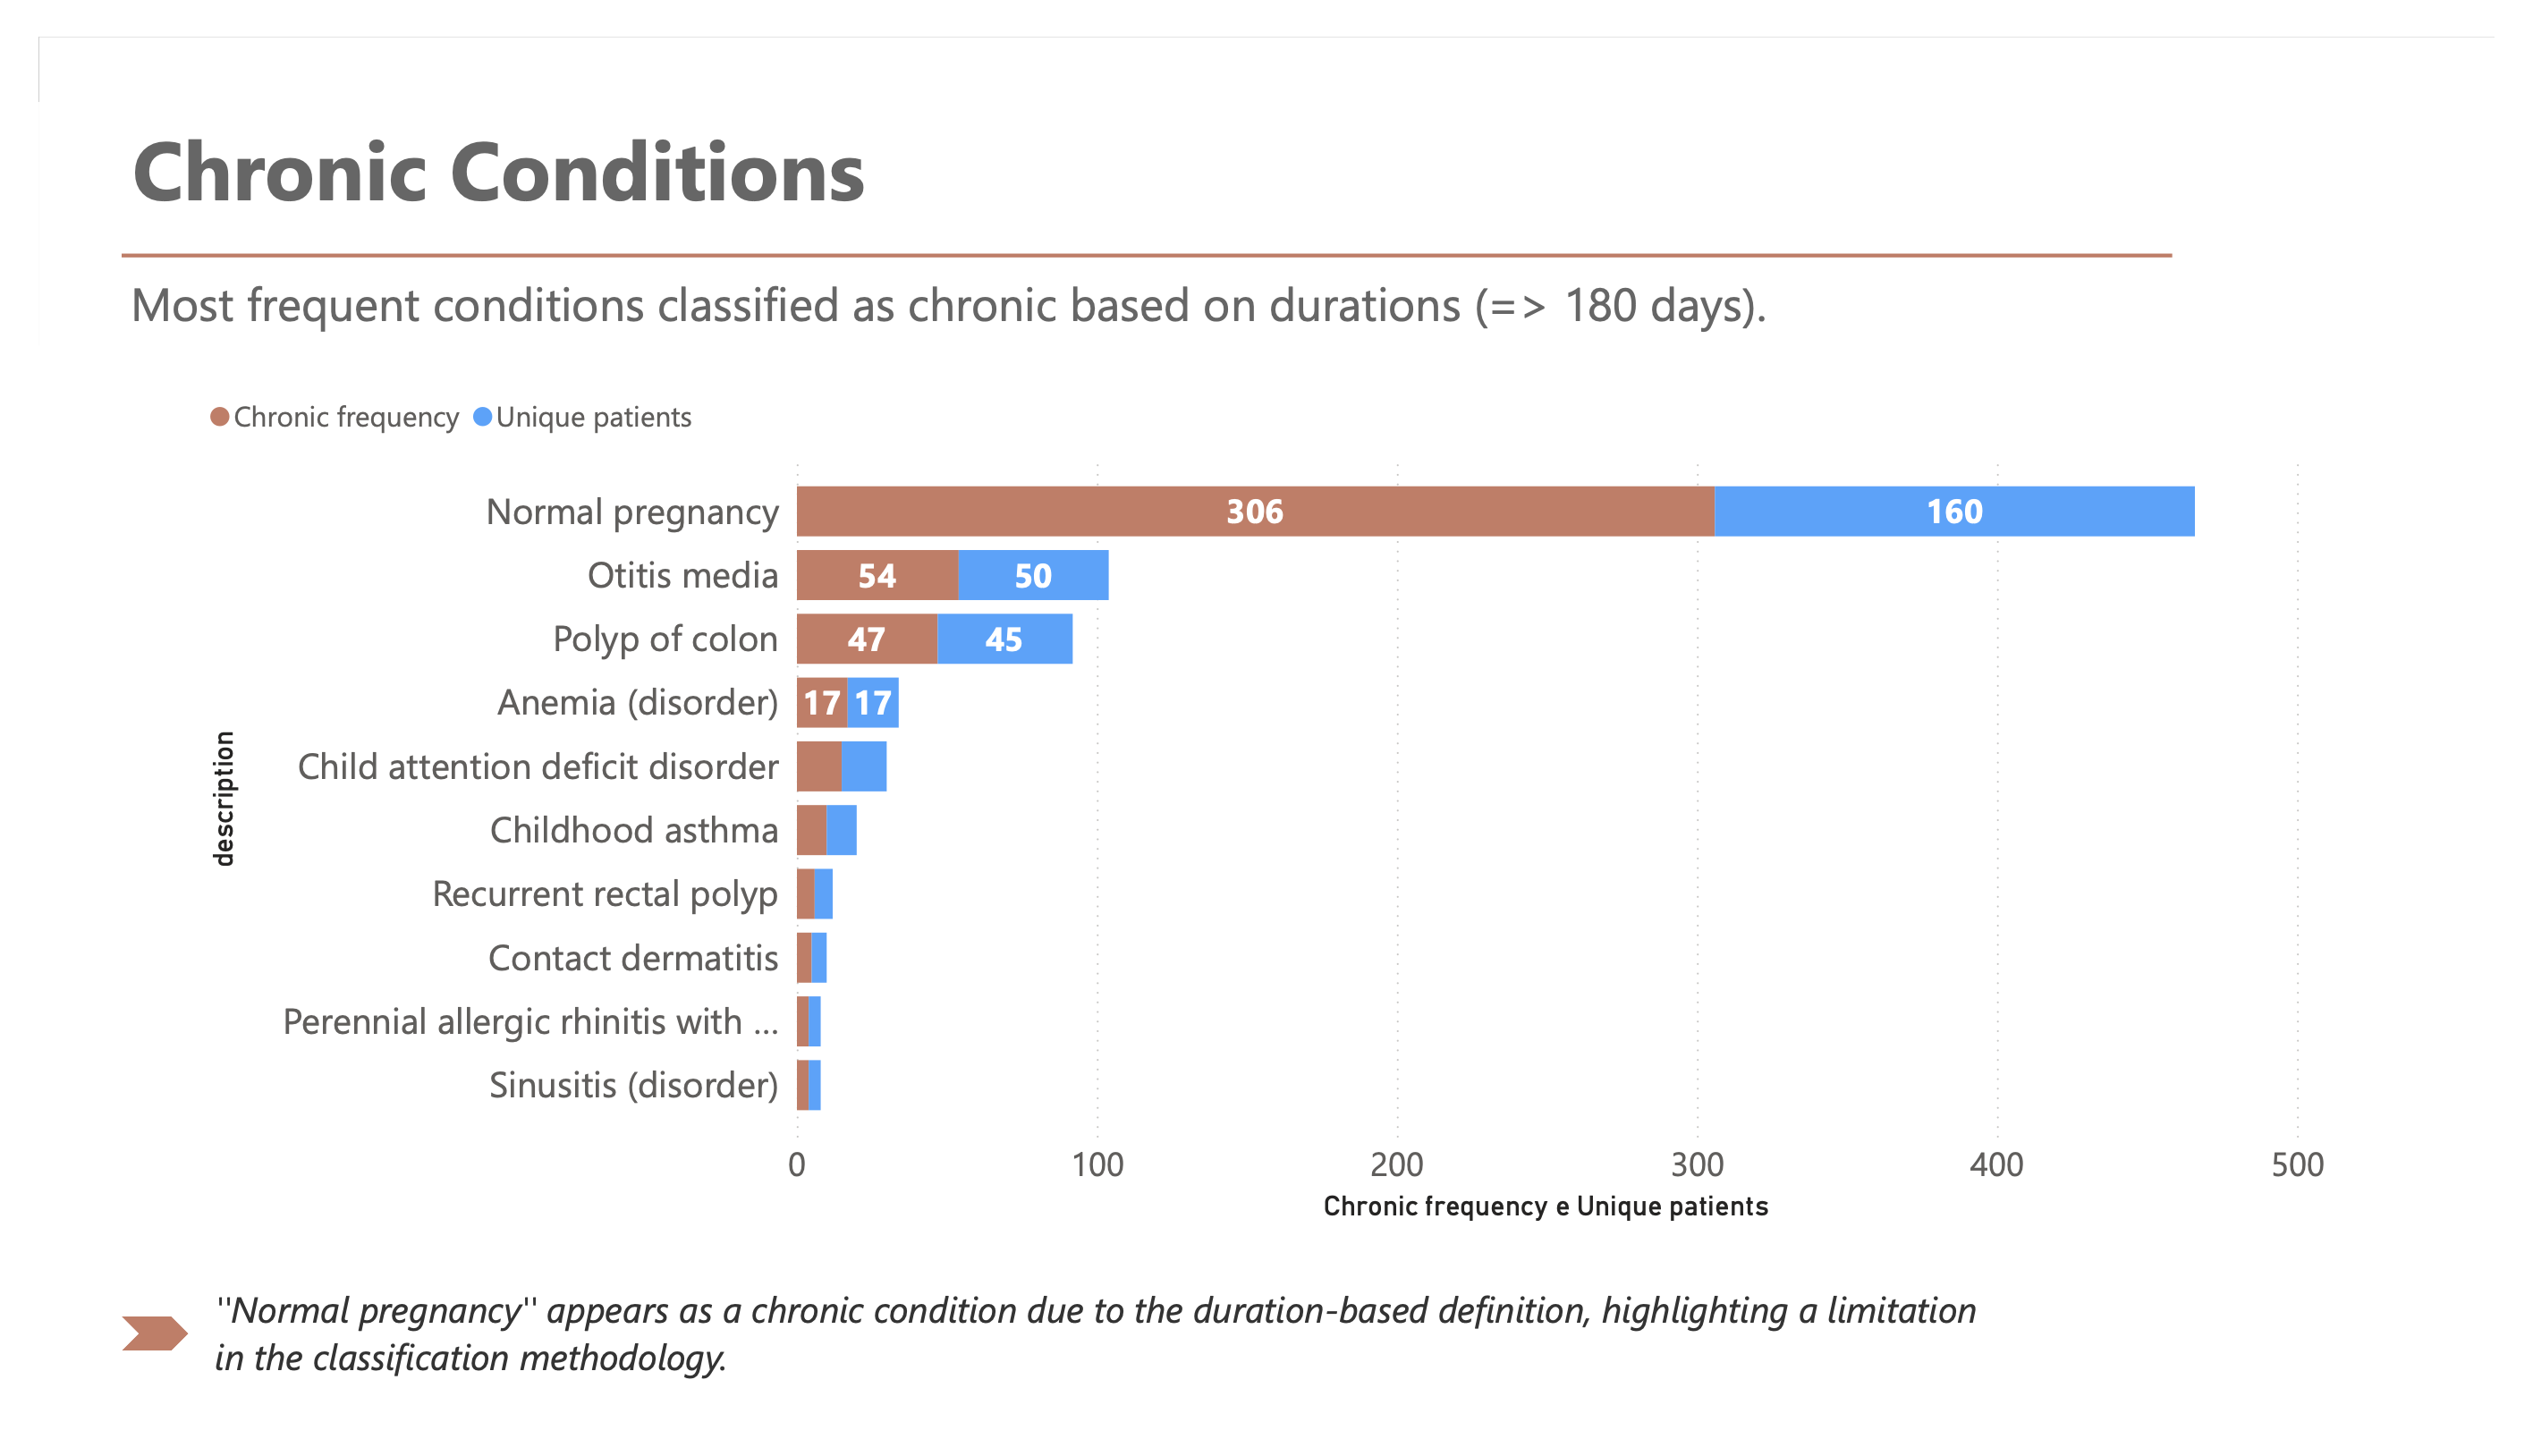

The page's visual inventory and layout, read from the dashboard file:
{"tool":"powerbi","page":{"name":" Chronic Conditions","canvas":[1280,720],"ordinal":2},"visuals":[{"type":"barChart","fields":{"Category":["chronic_conditions.description"],"Y":["Sum(chronic_conditions.chronic_frequency)","Sum(chronic_conditions.unique_patients)"]},"box":[83.3,176.7,1113.3,445],"z":0},{"type":"textbox","box":[86.7,645,930,61.7],"z":1000},{"type":"textbox","box":[44.1,33.9,508.5,72.9],"z":2000},{"type":"textbox","box":[43.3,116.7,943.3,58.3],"z":3000},{"type":"shape","box":[43.3,98.3,1068.3,31.7],"z":4000},{"type":"shape","box":[43.3,666.7,35,18.3],"z":5000}]}

Visuals, with their boxes in screenshot pixels (x1, y1, x2, y2), scaled from the page's 1280x720 canvas onto the 2533x1456 screenshot:
barChart - chronic_conditions.description x Sum(chronic_conditions.chronic_frequency): bbox=[165, 358, 2368, 1257]
textbox: bbox=[172, 1304, 2012, 1429]
textbox: bbox=[88, 69, 1094, 216]
textbox: bbox=[86, 236, 1953, 354]
shape: bbox=[86, 199, 2199, 263]
shape: bbox=[86, 1348, 155, 1385]
